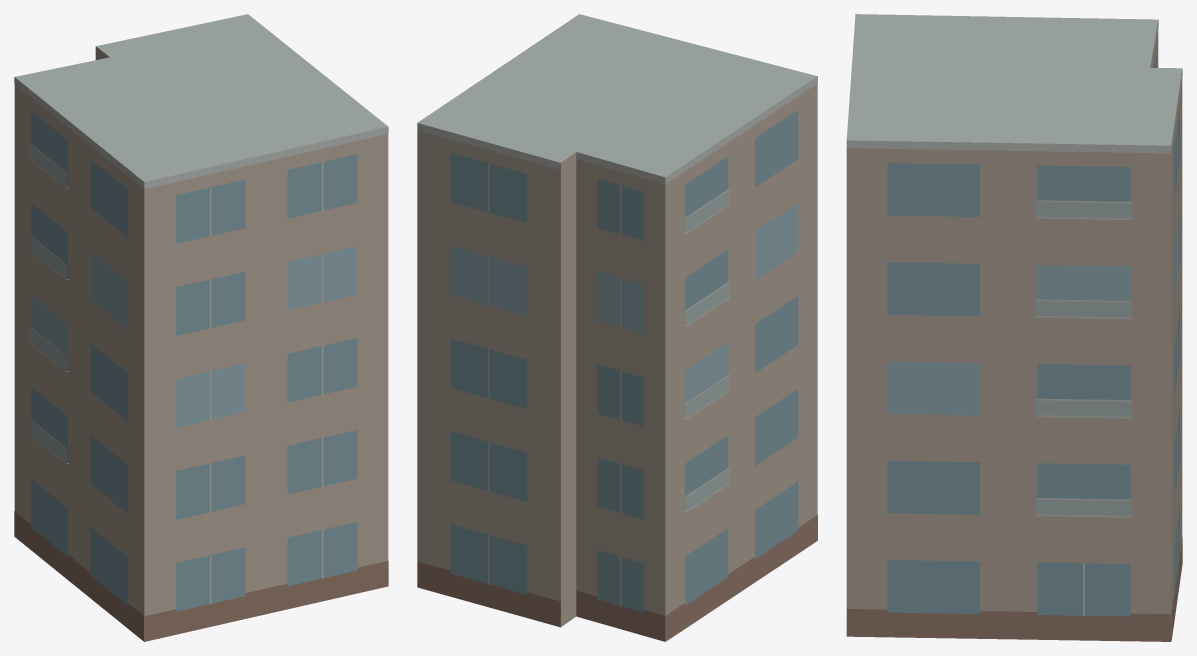
The model's file is survey-upis-32966447.glb.
3 renders of one model, left to right at view 1: azimuth 30°, elevation 25°; view 2: azimuth 150°, elevation 25°; view 3: azimuth 270°, elevation 25°, orthographic. The views are drawn at different scales.
Visible parts, largest first — view 1: survey-upis-32966447.tmp; view 2: survey-upis-32966447.tmp; view 3: survey-upis-32966447.tmp.
Part boxes in pixels (box(x1,y1,x2,y2)): survey-upis-32966447.tmp: box(14, 14, 388, 641); survey-upis-32966447.tmp: box(417, 14, 817, 641); survey-upis-32966447.tmp: box(846, 14, 1182, 641).
Size of the model in its own units: 8.89 by 15.6 by 9.58.
